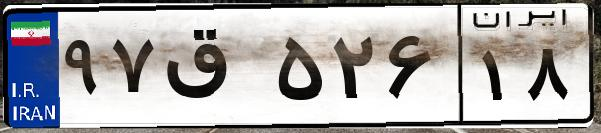1: (475, 38, 525, 113)
2: (330, 28, 385, 110)
5: (270, 28, 330, 110)
6: (385, 28, 445, 110)
7: (110, 28, 158, 98)
8: (525, 38, 570, 115)
9: (57, 26, 110, 100)
ق: (158, 20, 270, 120)
